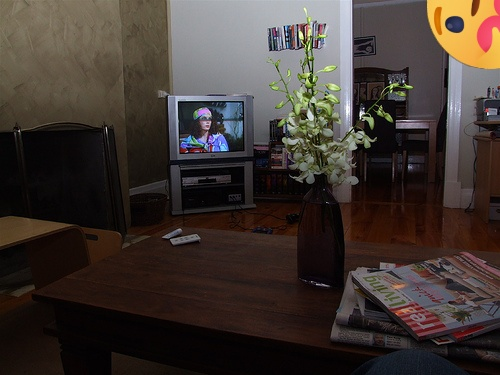care: (427, 0, 500, 69)
